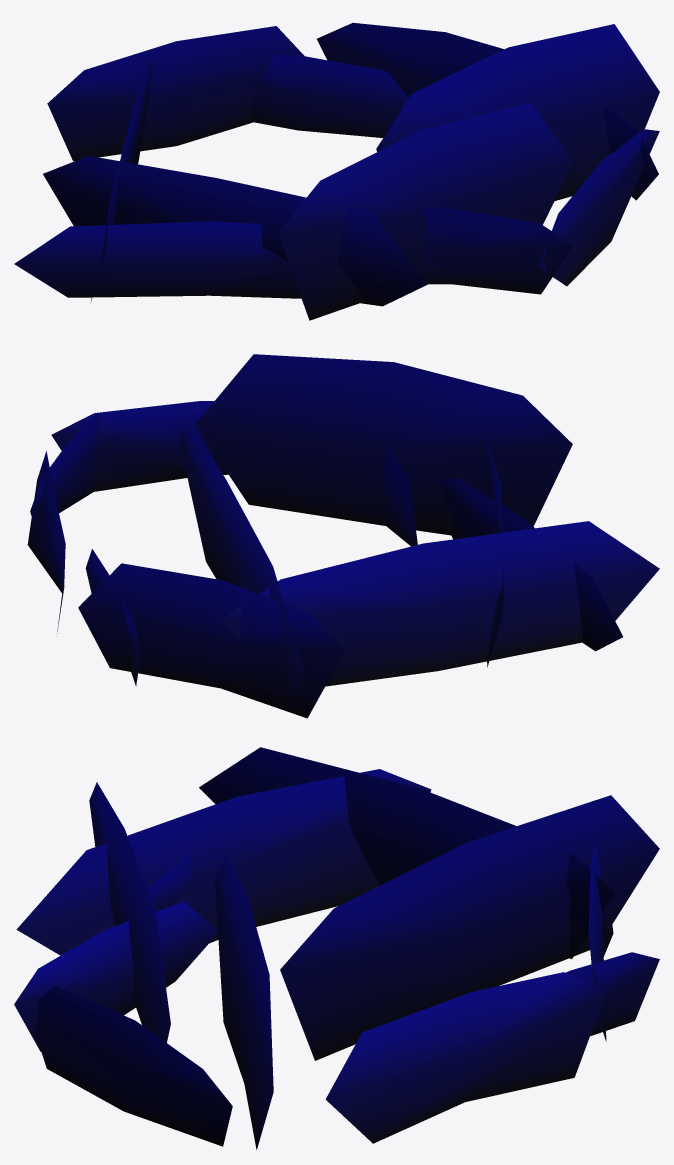
The model's file is SM_Grass_XS_Patch_M_03.fbx.
The picture shows the model from 3 angles, top to bottom: view 1: azimuth 30°, elevation 25°; view 2: azimuth 150°, elevation 25°; view 3: azimuth 270°, elevation 25°; orthographic projection. The views are drawn at different scales.
Parts seen in each view (by area): view 1: SM_Grass_XS_Patch_M_03; view 2: SM_Grass_XS_Patch_M_03; view 3: SM_Grass_XS_Patch_M_03.
Boxes of the visible parts, x1,y1,x2,y2 form: SM_Grass_XS_Patch_M_03: [14, 22, 659, 320]; SM_Grass_XS_Patch_M_03: [27, 354, 659, 718]; SM_Grass_XS_Patch_M_03: [14, 747, 659, 1149].
Size of the model in its own units: 111 by 88.32 by 28.61.
